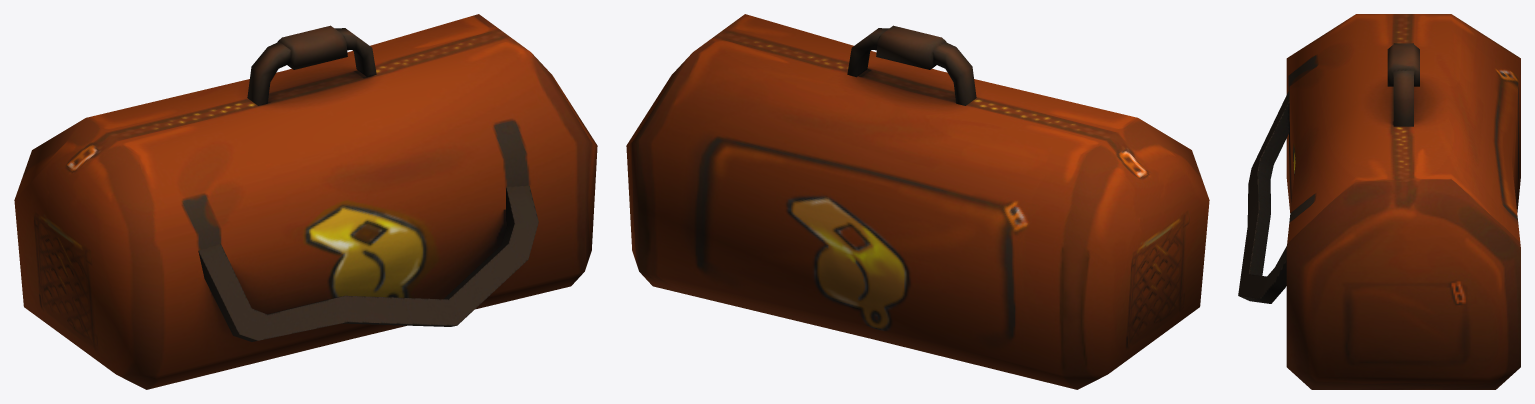
File: DuffleBag.fbx
3 renders of one model, left to right at view 1: azimuth 30°, elevation 25°; view 2: azimuth 150°, elevation 25°; view 3: azimuth 270°, elevation 25°, orthographic. The views are drawn at different scales.
Visible parts, largest first — view 1: DuffleBag; view 2: DuffleBag; view 3: DuffleBag.
Boxes of the visible parts, left/top/right/bottom form: DuffleBag: left=14, top=14, right=597, bottom=389; DuffleBag: left=626, top=14, right=1209, bottom=389; DuffleBag: left=1238, top=14, right=1520, bottom=389.
Size of the model in its own units: 63 by 33.18 by 34.74.
